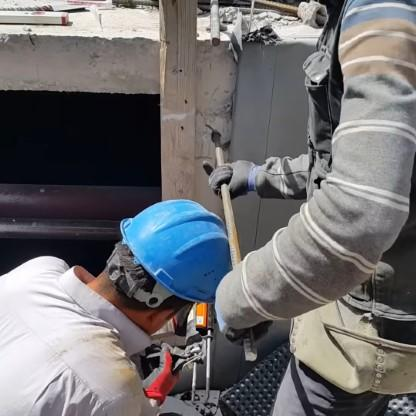helmet: (79, 181, 251, 339)
